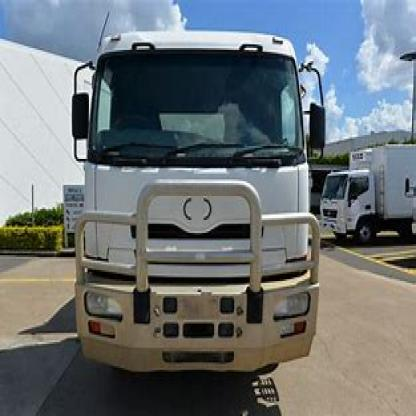dump_truck: (66, 22, 331, 386)
